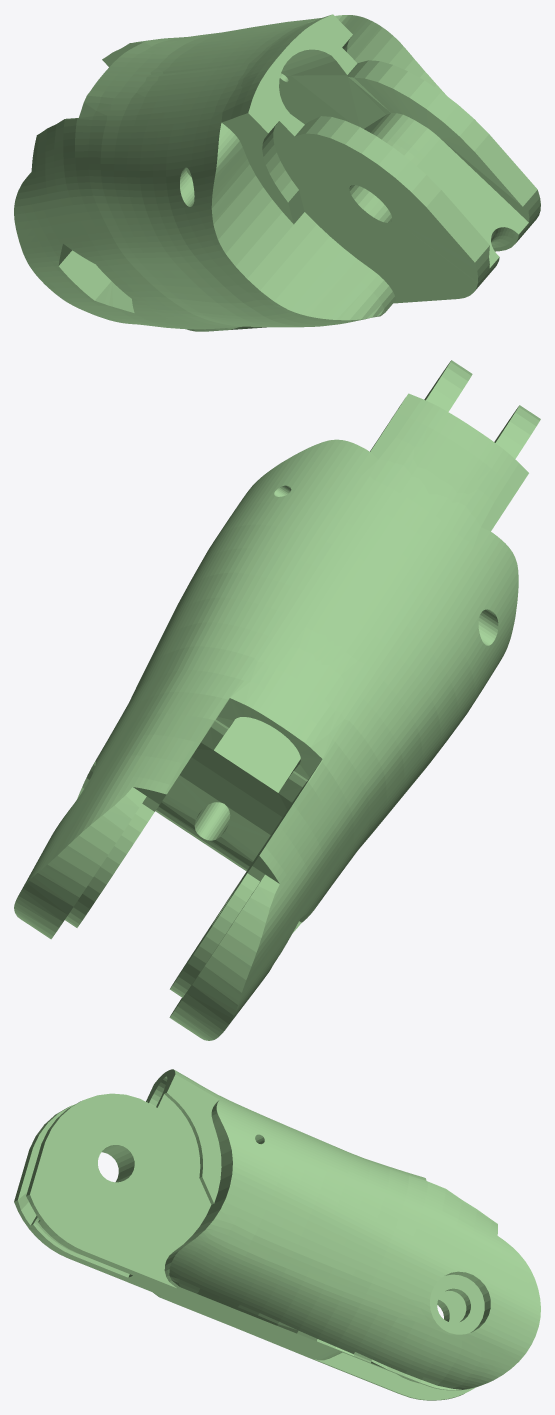
The model's file is i02_rightHand_majeurePhal_visual.obj.
3 renders of one model, top to bottom at view 1: azimuth 30°, elevation 25°; view 2: azimuth 150°, elevation 25°; view 3: azimuth 270°, elevation 25°, orthographic. The views are drawn at different scales.
Visible parts, largest first — view 1: i02_rightHand_majeurePhal_visual.001; view 2: i02_rightHand_majeurePhal_visual.001; view 3: i02_rightHand_majeurePhal_visual.001.
Boxes of the visible parts, box(x1,y1,x2,y2) form: i02_rightHand_majeurePhal_visual.001: box(14, 14, 540, 331); i02_rightHand_majeurePhal_visual.001: box(14, 360, 540, 1040); i02_rightHand_majeurePhal_visual.001: box(14, 1069, 540, 1400).
Bounding box in the file's own units: 0.2039 × 0.3366 × 0.5012.
